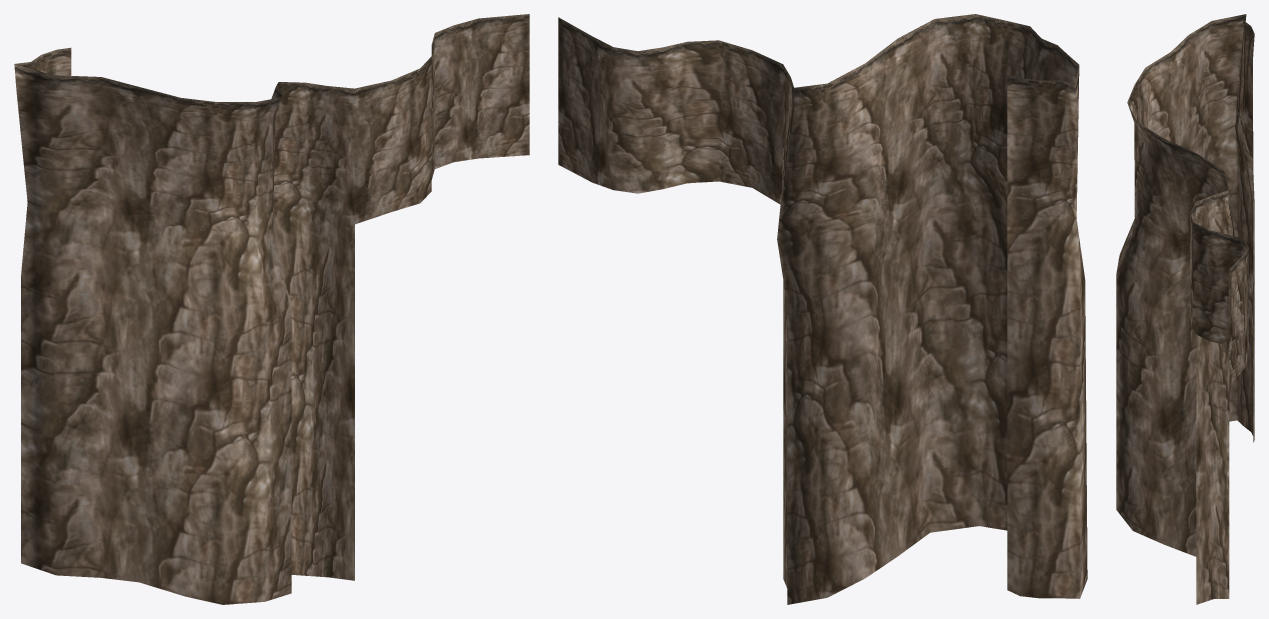
File: OVERHILL_A_01_OBJECT43.fbx
3 renders of one model, left to right at view 1: azimuth 30°, elevation 25°; view 2: azimuth 150°, elevation 25°; view 3: azimuth 270°, elevation 25°, orthographic. The views are drawn at different scales.
Parts seen in each view (by area): view 1: OVERHILL_A_01_OBJECT43; view 2: OVERHILL_A_01_OBJECT43; view 3: OVERHILL_A_01_OBJECT43.
Boxes of the visible parts, x1=… form: OVERHILL_A_01_OBJECT43: x1=14, y1=14, x2=529, y2=604; OVERHILL_A_01_OBJECT43: x1=558, y1=14, x2=1087, y2=604; OVERHILL_A_01_OBJECT43: x1=1116, y1=14, x2=1254, y2=604.
Size of the model in its own units: 180537 by 196020 by 52276.
Materials: 2 (2 with a texture image).
